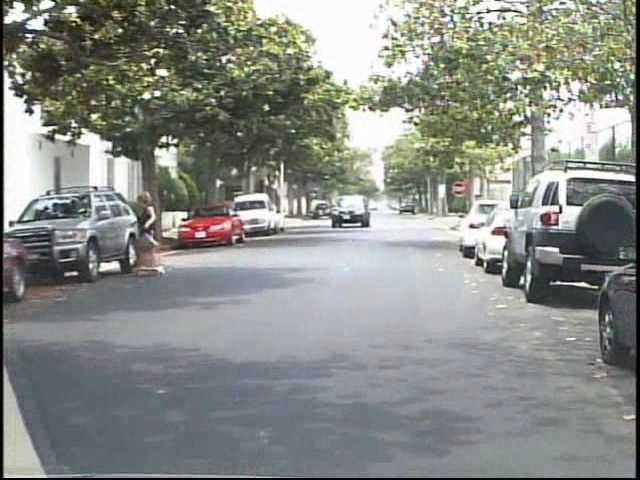person: (138, 187, 174, 279)
